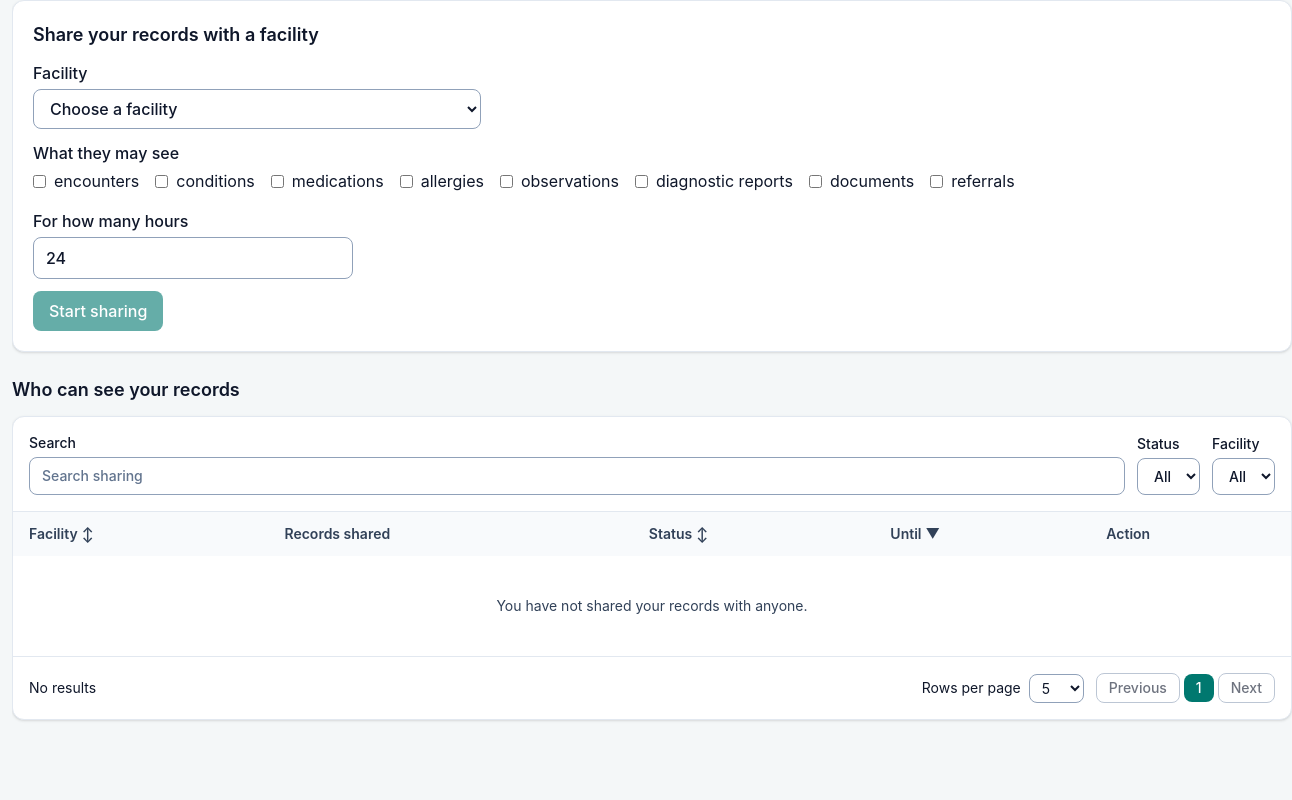
Test: patient screens › shares with a facility, and reports a problem with a record
Select "City Clinic" in the dropdown labelled "Facility" below "Share your records with a facility" at (257, 109), box left=33, top=89, right=481, bottom=129
Click the checkbox labelled "allergies" at (406, 181), box left=400, top=174, right=413, bottom=188
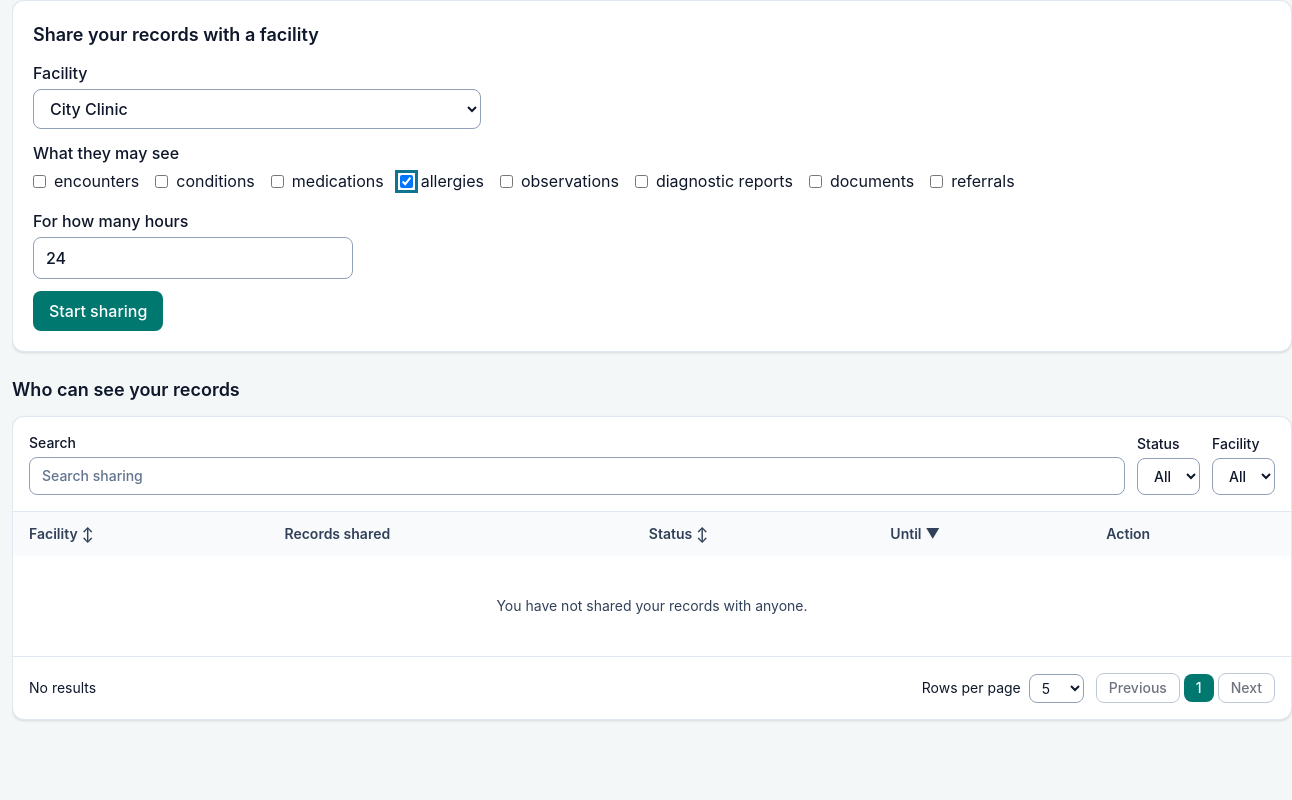
Click the button "Start sharing" at (98, 311), box left=33, top=291, right=163, bottom=331
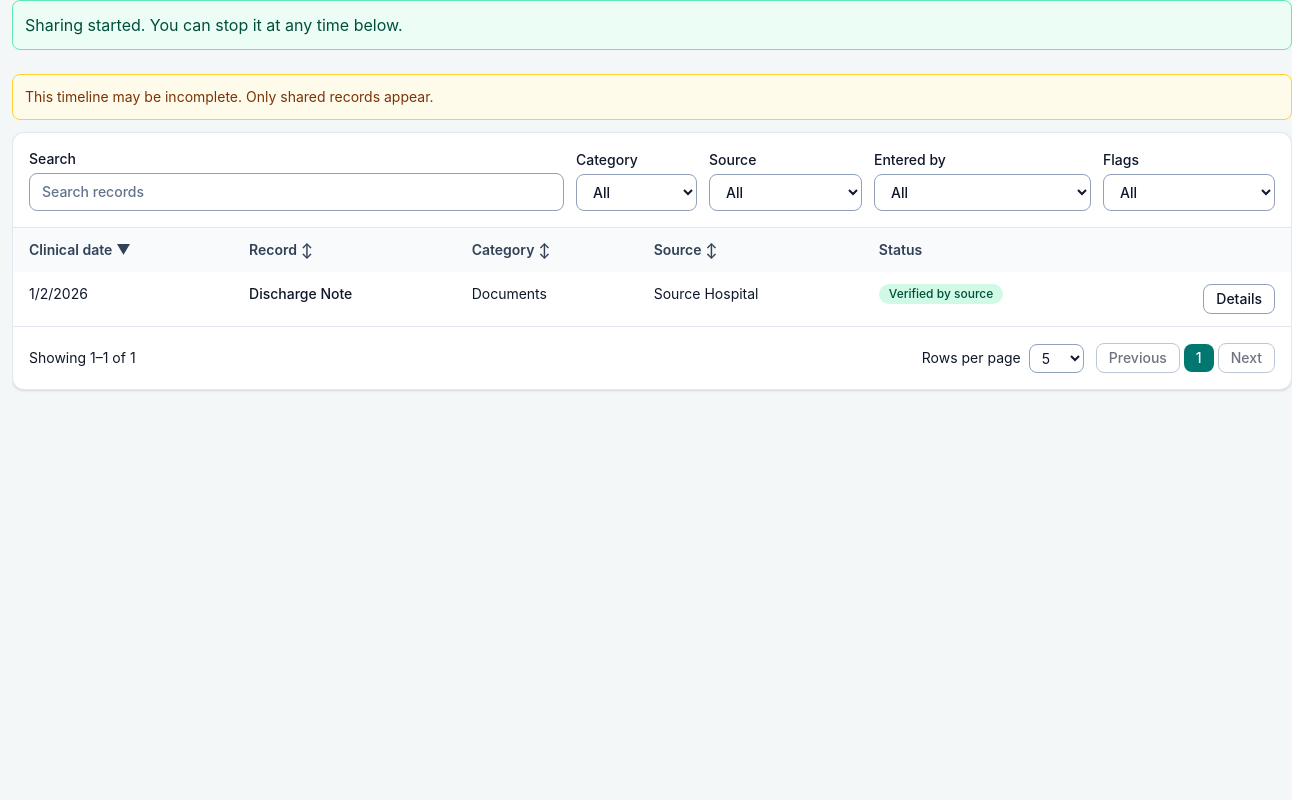
Now the text "Sharing started. You can stop it at any time below." is shown, box left=12, top=0, right=1291, bottom=50
Click the button "Details" at (1239, 299), box left=1203, top=284, right=1275, bottom=314
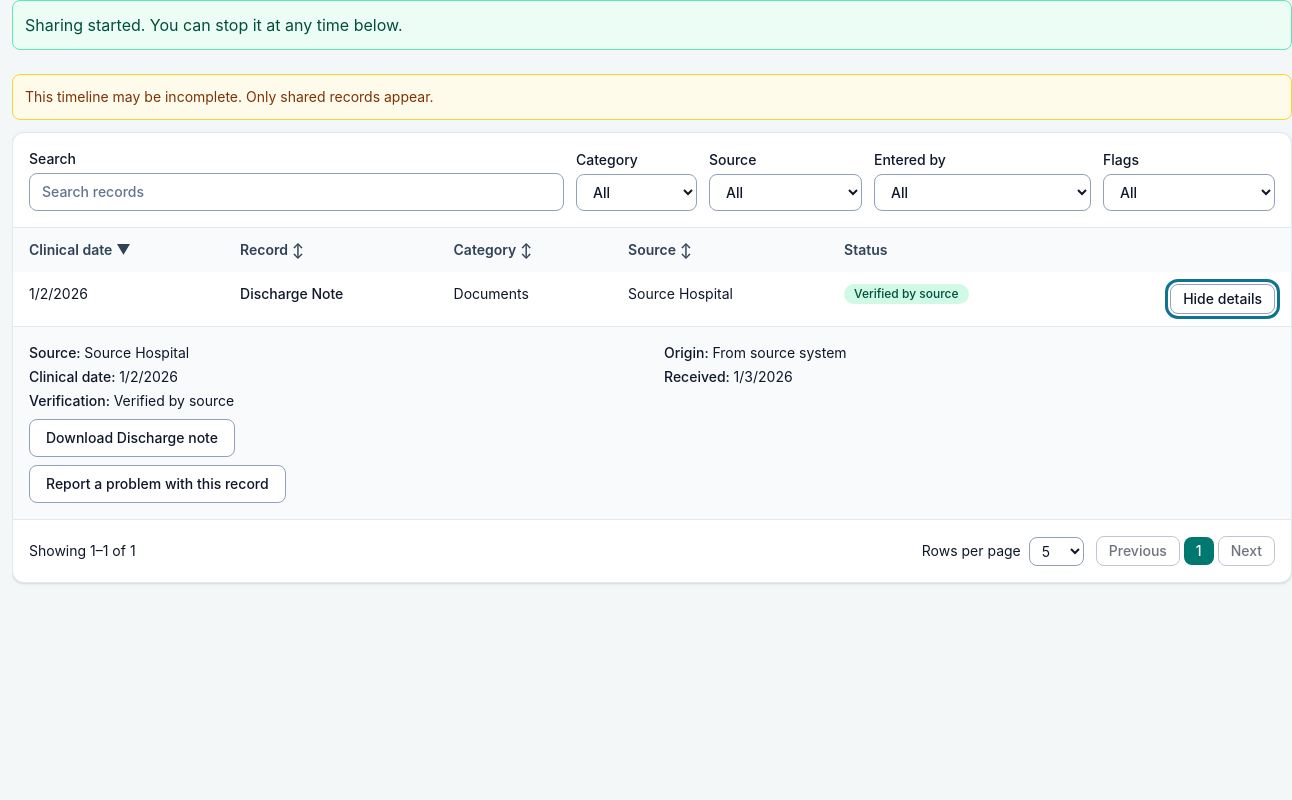
Click the button "Report a problem with this record" at (157, 484), box left=29, top=465, right=286, bottom=503
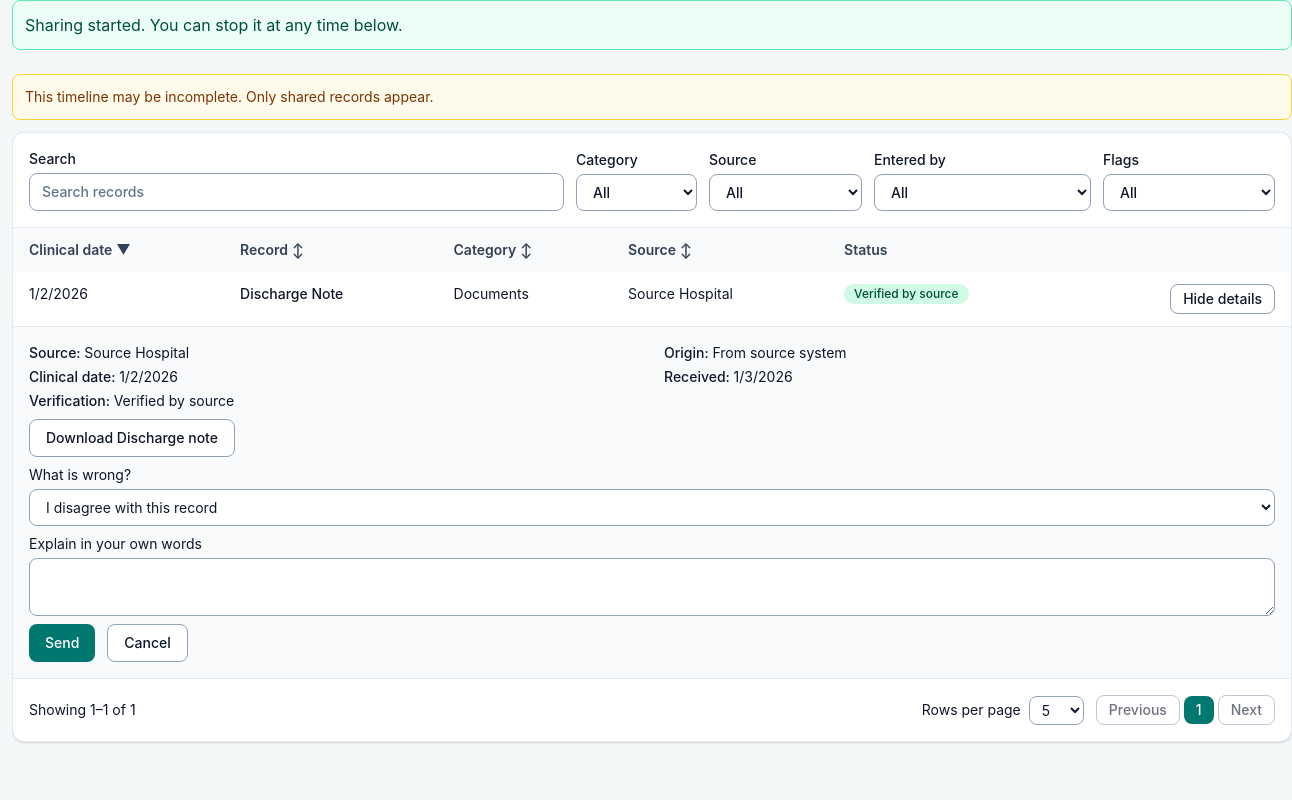
Type "This is not mine" into the text box labelled "Explain in your own words" at (652, 587), box left=29, top=558, right=1275, bottom=616
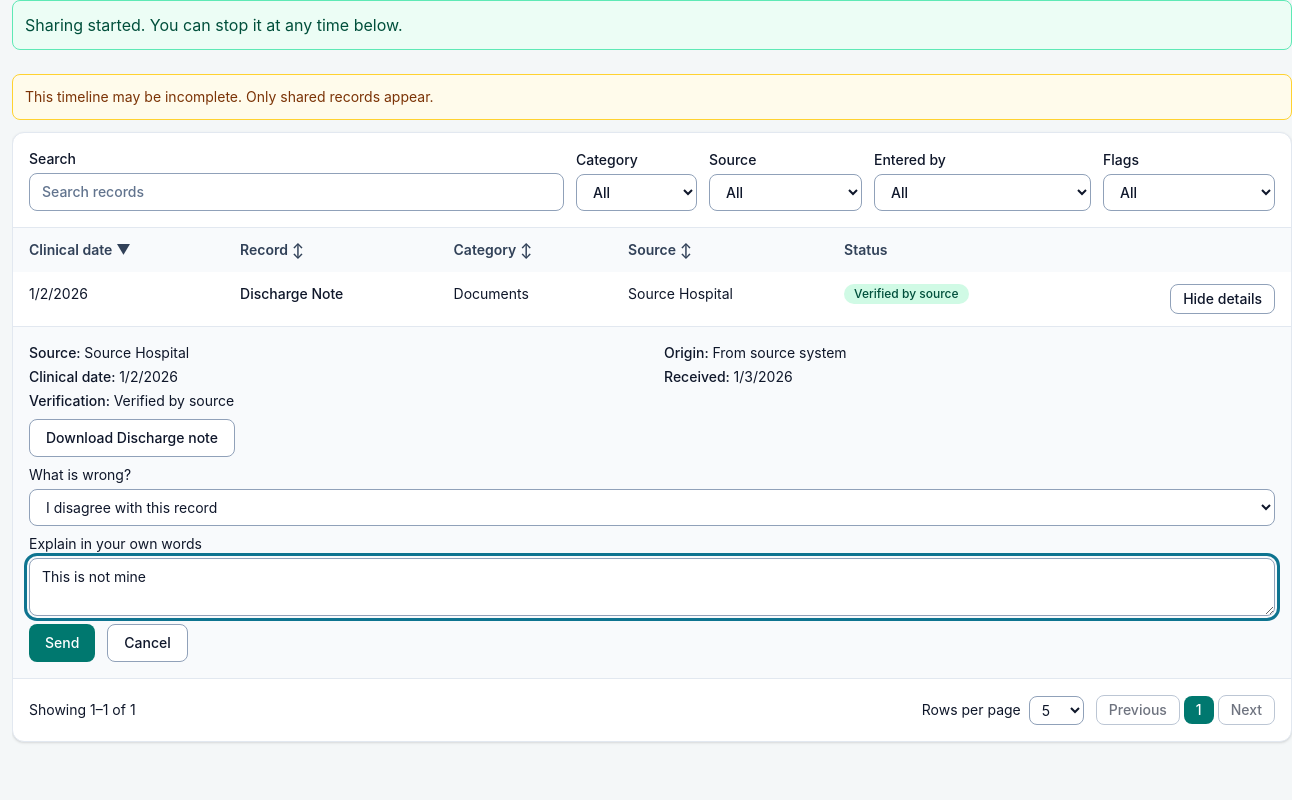
Click the button "Send" at (62, 643), box left=29, top=624, right=95, bottom=662
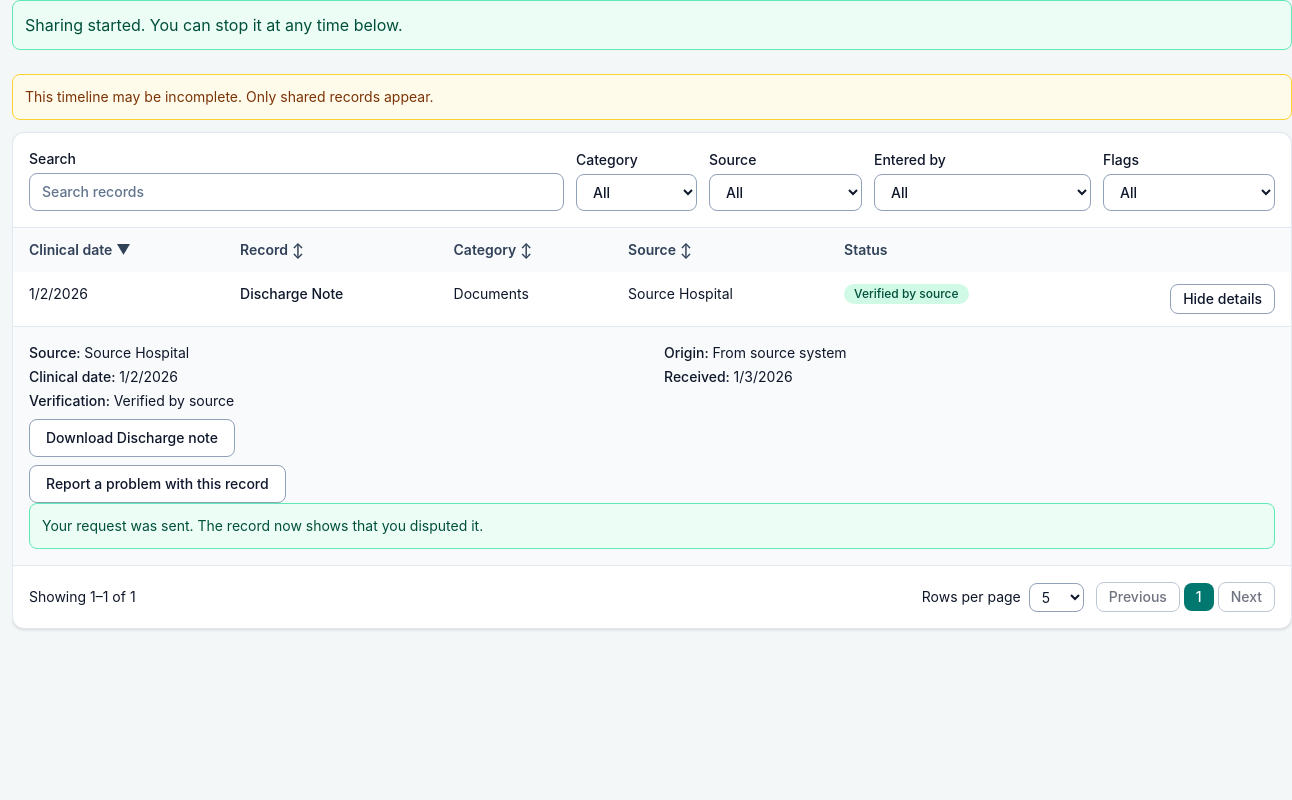
Now the text "Your request was sent. The record now shows that you disputed it." is shown, box left=29, top=503, right=1275, bottom=549
